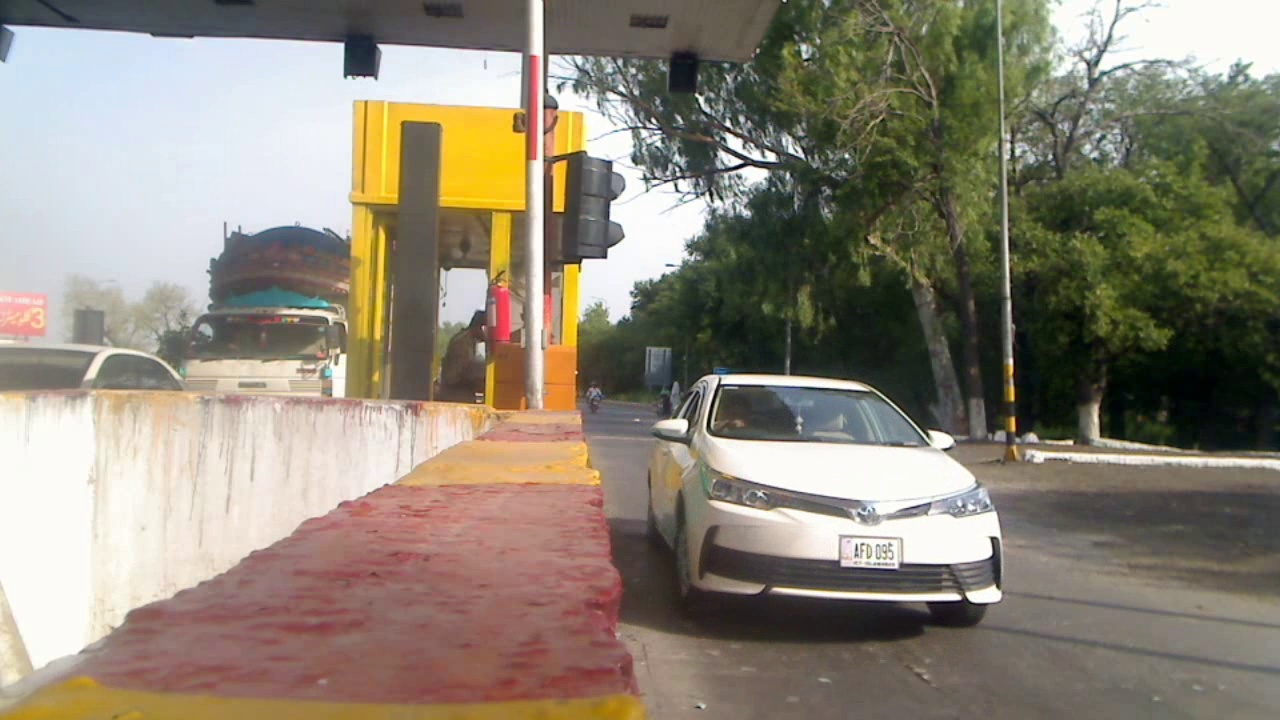Number Plate (Car): (842, 537, 901, 567)
